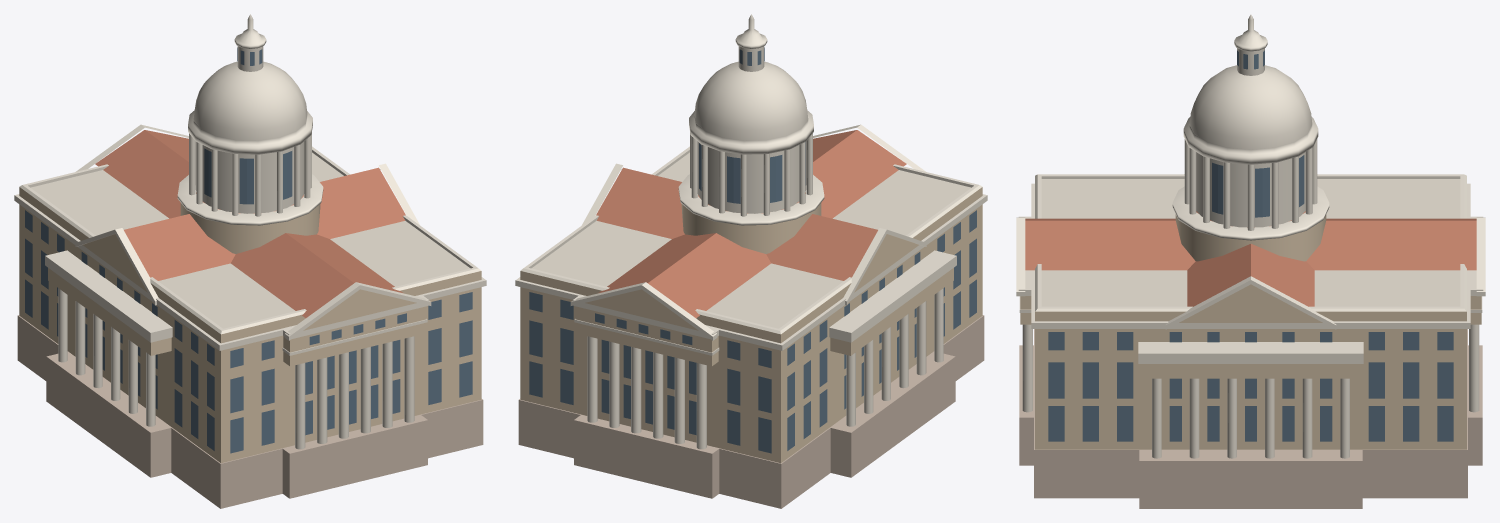
File: hou-1910-courthouse.glb
3 views of the same model, side by side, from view 1: azimuth 30°, elevation 25°; view 2: azimuth 150°, elevation 25°; view 3: azimuth 270°, elevation 25° (orthographic). The views are drawn at different scales.
Parts seen in each view (by area): view 1: 1910 Harris County Courthouse; view 2: 1910 Harris County Courthouse; view 3: 1910 Harris County Courthouse.
Part boxes in pixels (x1=…): 1910 Harris County Courthouse: x1=14, y1=14, x2=486, y2=508; 1910 Harris County Courthouse: x1=515, y1=14, x2=987, y2=508; 1910 Harris County Courthouse: x1=1016, y1=14, x2=1485, y2=508.
Bounding box in the file's own units: 46.1 × 56.1 × 57.4.
